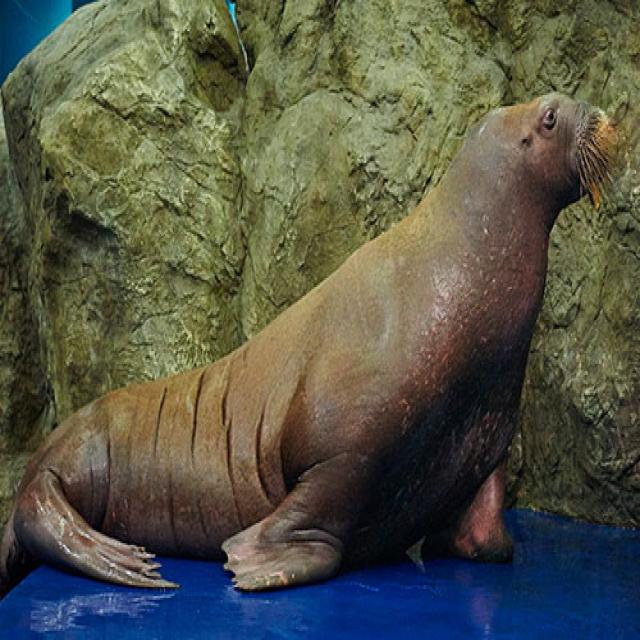walrus: (4, 67, 633, 599)
